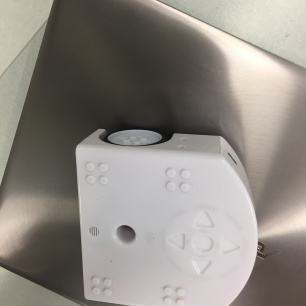thymio: (71, 119, 283, 306)
